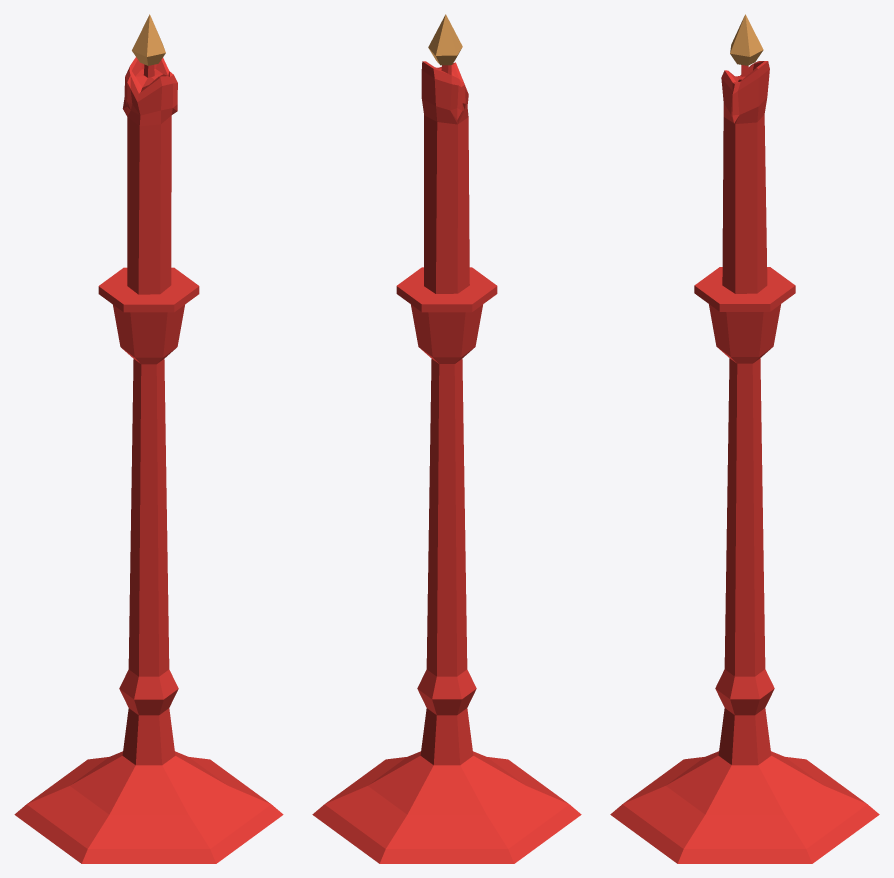
File: SM_Candle_Holder_Tall_B_Lit_Christmas.fbx
The picture shows the model from 3 angles, left to right: view 1: azimuth 30°, elevation 25°; view 2: azimuth 150°, elevation 25°; view 3: azimuth 270°, elevation 25°; orthographic projection.
Parts seen in each view (by area): view 1: candle-holder-tall-b-lit-christmas; view 2: candle-holder-tall-b-lit-christmas; view 3: candle-holder-tall-b-lit-christmas.
Part boxes in pixels (x1,y1,x2,y2): candle-holder-tall-b-lit-christmas: (14,14,283,863); candle-holder-tall-b-lit-christmas: (312,14,581,863); candle-holder-tall-b-lit-christmas: (610,14,879,863).
Size of the model in its own units: 0.1644 by 0.6221 by 0.1898.
